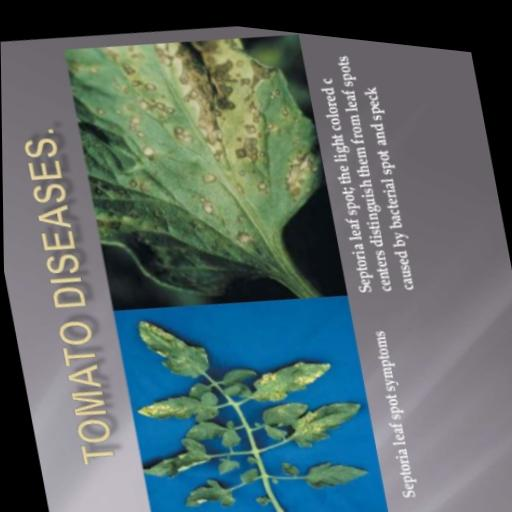Septoria: (63, 7, 343, 317), (132, 304, 213, 384), (239, 341, 333, 406), (280, 384, 367, 450), (130, 378, 221, 433)
